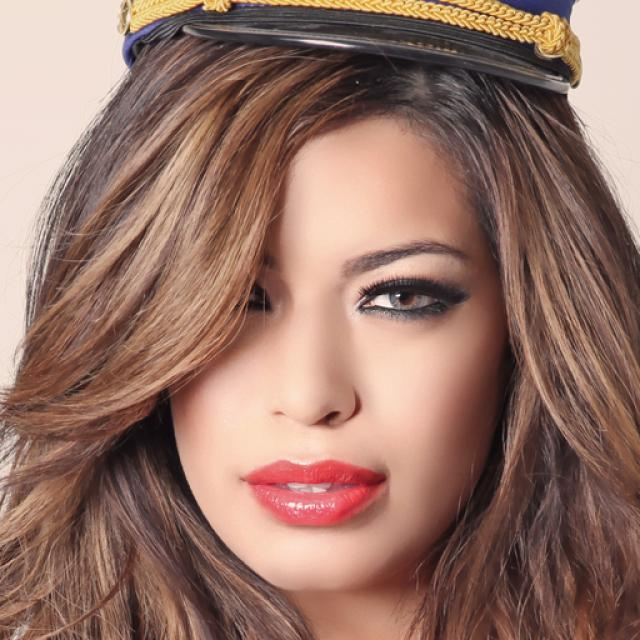neutral: (170, 102, 508, 592)
